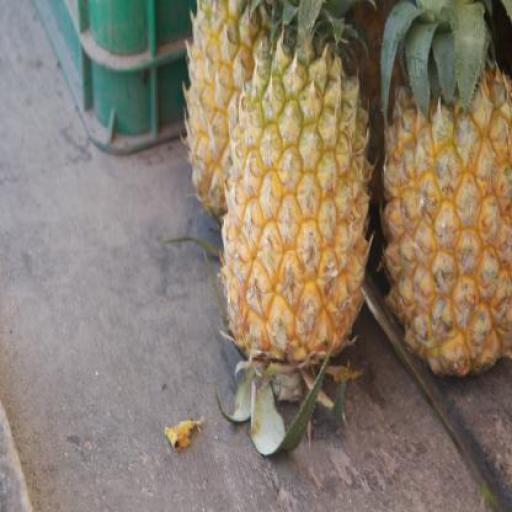Pineapple - v8 v1: (223, 47, 368, 370), (382, 63, 510, 383), (190, 0, 288, 234)
